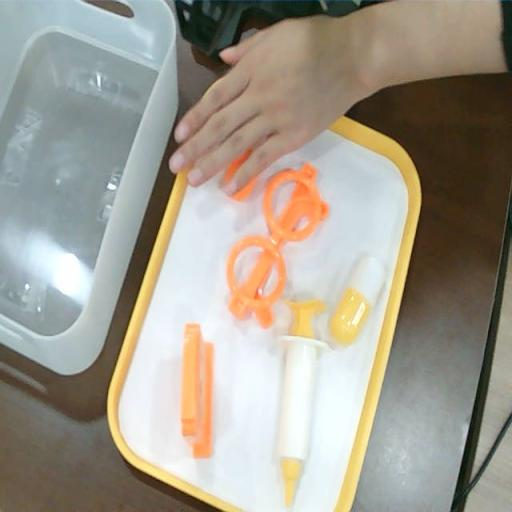hospital: (171, 12, 359, 192)
